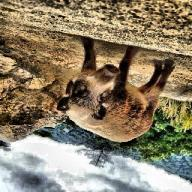boar: (55, 36, 174, 144)
